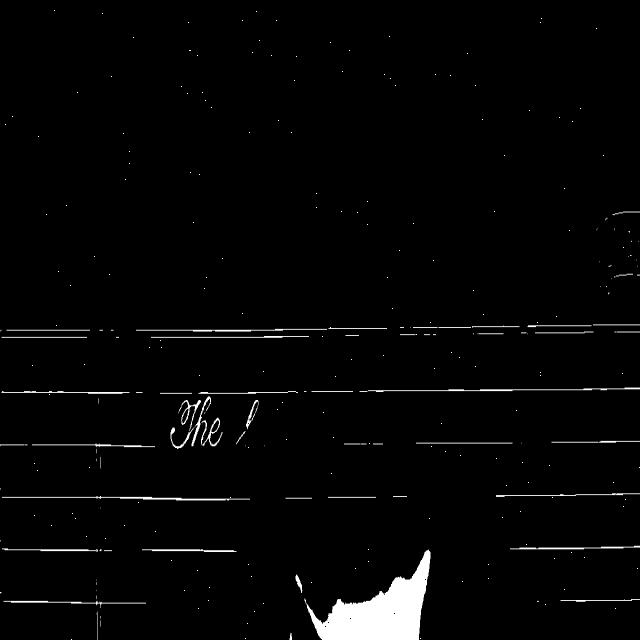hand: (310, 549, 430, 638), (296, 574, 302, 592), (289, 633, 292, 639)
noise: (0, 443, 155, 466), (398, 323, 640, 336), (135, 327, 389, 338), (308, 386, 640, 394), (0, 494, 250, 501), (510, 544, 640, 552), (0, 328, 94, 338), (496, 491, 640, 497), (0, 547, 113, 554), (159, 390, 306, 395), (140, 548, 236, 553), (2, 390, 129, 393), (550, 440, 640, 444), (560, 598, 640, 601), (329, 494, 376, 499), (415, 442, 515, 444), (344, 442, 384, 444), (286, 496, 311, 499), (393, 495, 406, 496)
not-noise: (170, 395, 222, 449), (236, 399, 258, 444)
page-marker: (596, 213, 640, 318)
